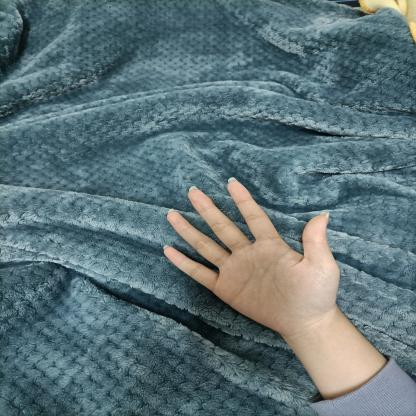bare_hand: (156, 170, 352, 340)
